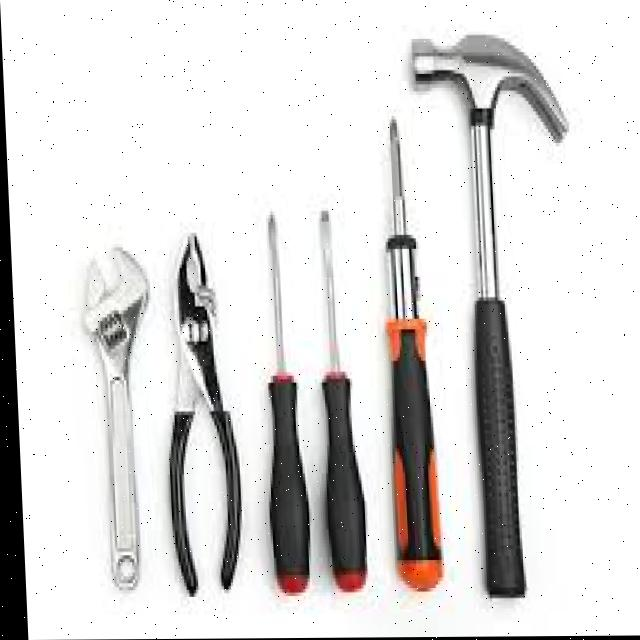Screwdriver: (382, 118, 438, 590), (265, 215, 304, 593), (322, 210, 360, 591)
